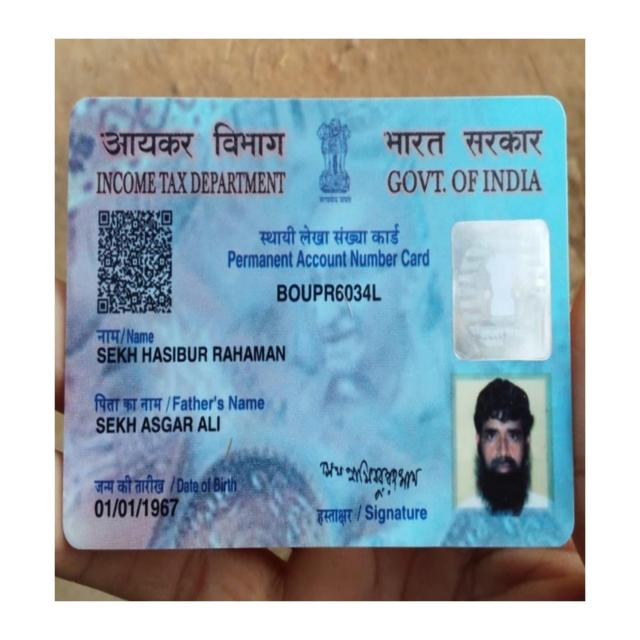pan_card: (70, 100, 568, 549)
